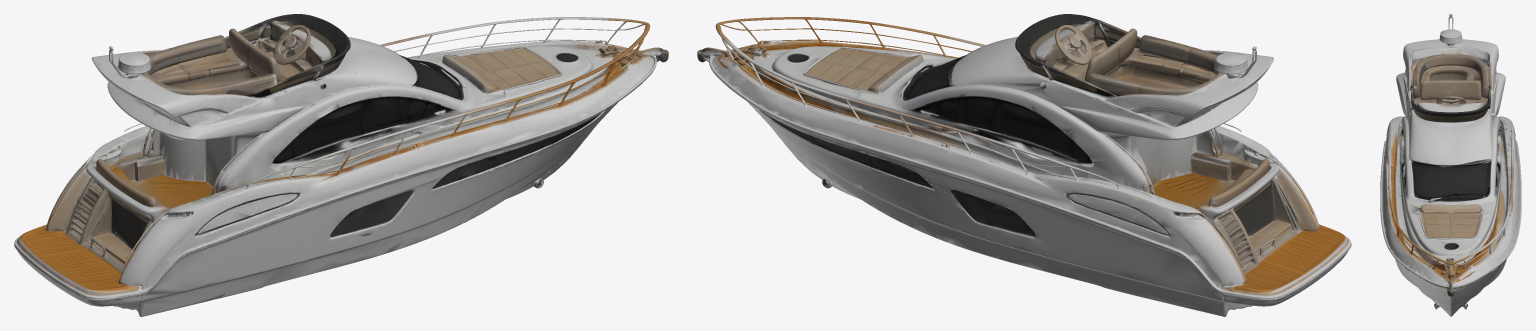
Rendered from A_Small_Yacht-v1.glb.
3 renders of one model, left to right at view 1: azimuth 30°, elevation 25°; view 2: azimuth 150°, elevation 25°; view 3: azimuth 270°, elevation 25°, orthographic. The views are drawn at different scales.
Visible parts, largest first — view 1: A_Small_Yacht; view 2: A_Small_Yacht; view 3: A_Small_Yacht.
Boxes of the visible parts, x1,y1,x2,y2 form: A_Small_Yacht: [14, 14, 668, 316]; A_Small_Yacht: [697, 14, 1351, 316]; A_Small_Yacht: [1380, 14, 1521, 316].
Size of the model in its own units: 1.16 by 0.4533 by 0.3387.
Materials: 1 (1 with a texture image).
